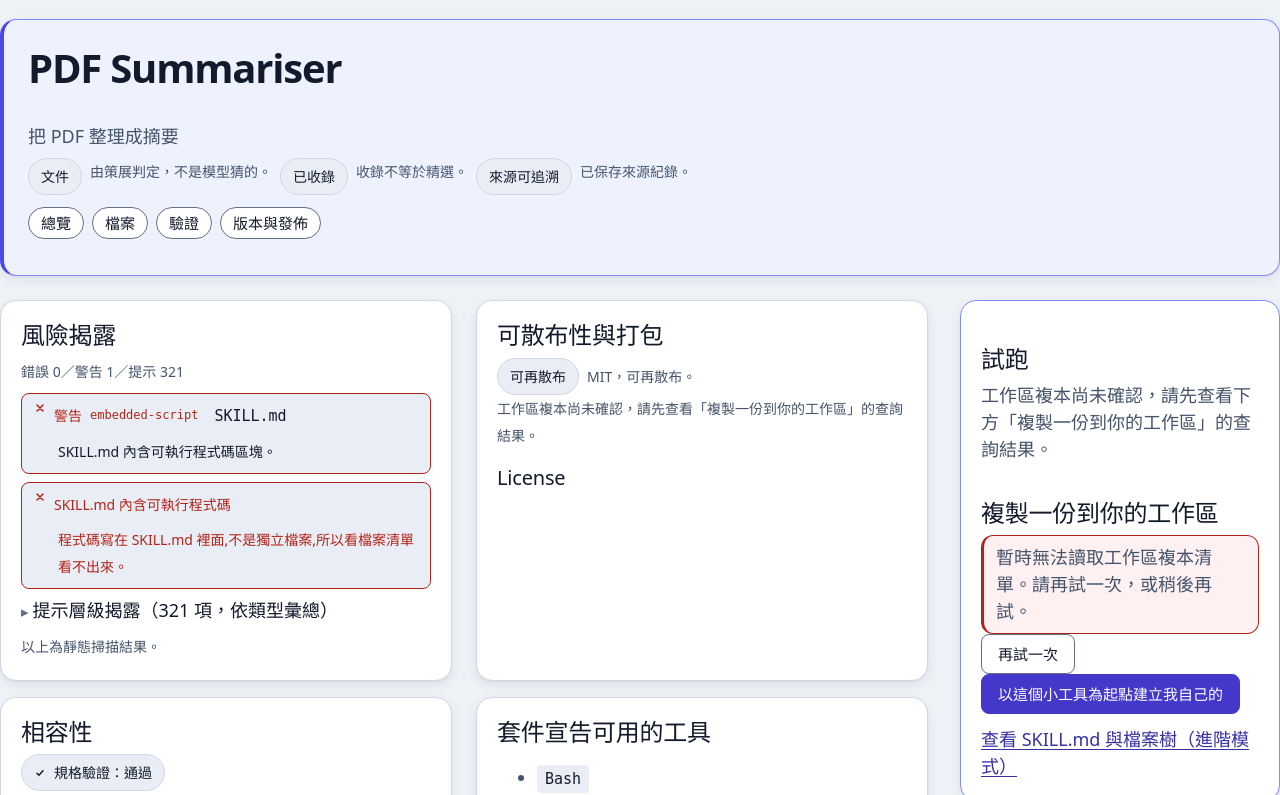
a cached read failure and held retry withhold old copies and preserve focus moved elsewhere
This screenshot has width=1280, height=795.
Click the button "再試一次" at coordinates (1028, 654), box [981,634,1075,674]
(page scrolled)
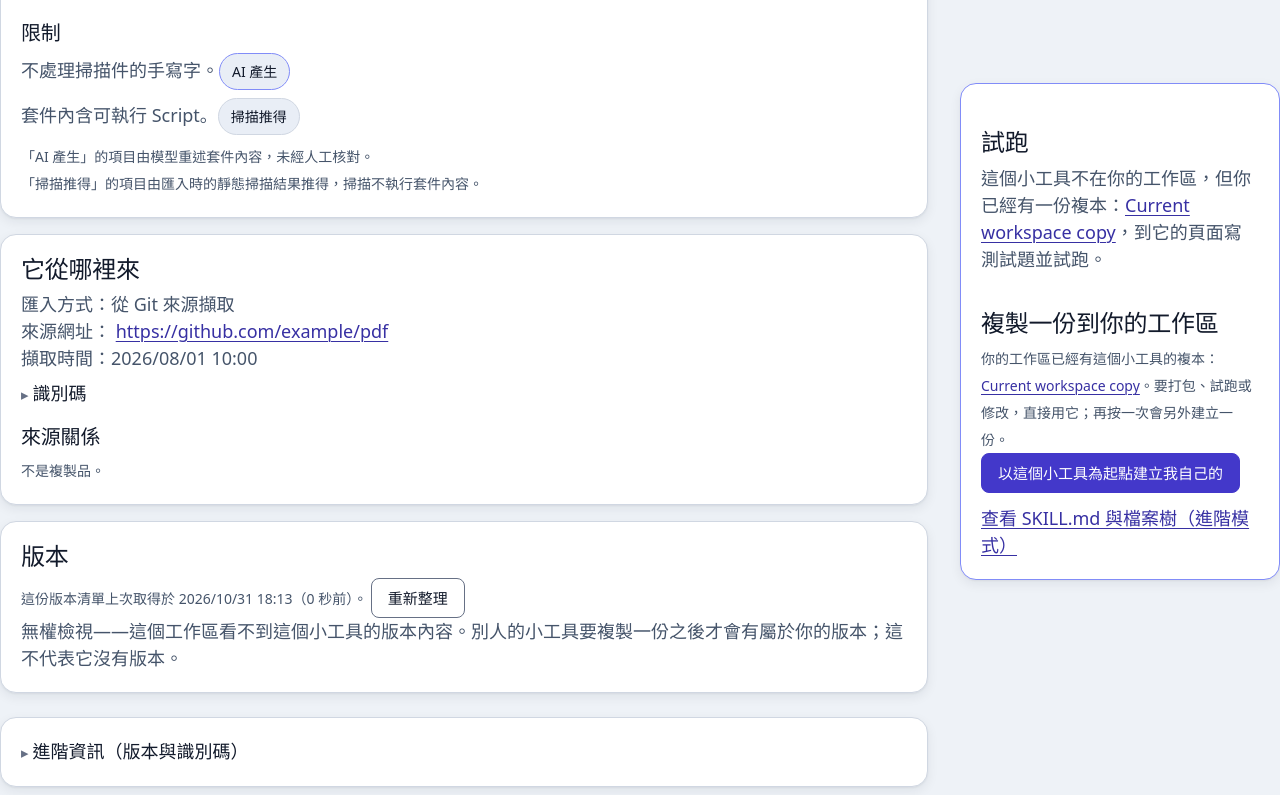
Now the text "暫時無法讀取工作區複本清單" is gone
